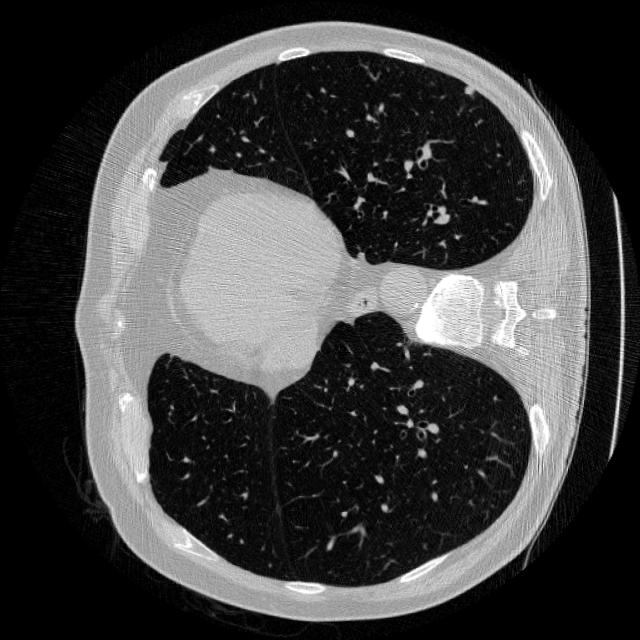nodule: (456, 78, 480, 102)
